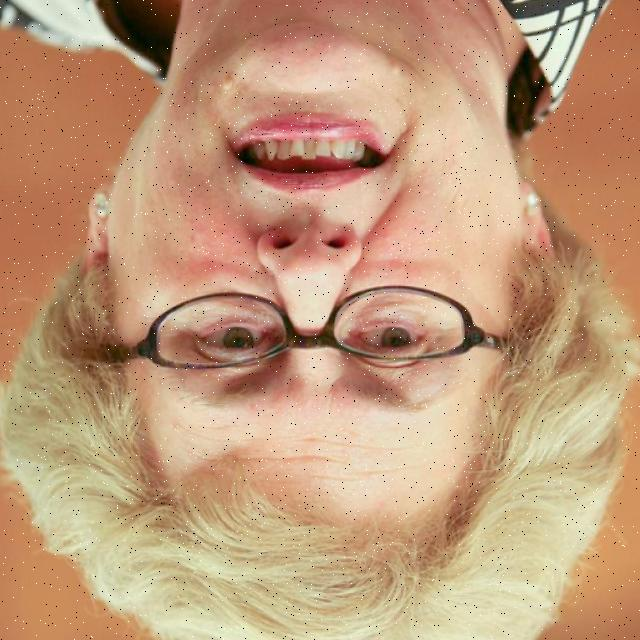puffy_eyes: (352, 296, 434, 325), (189, 301, 267, 325)
